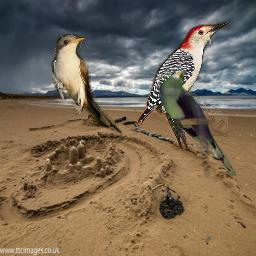Cuckoo: (158, 69, 242, 178), (51, 34, 123, 138)
Woodpecker: (136, 21, 228, 152)
